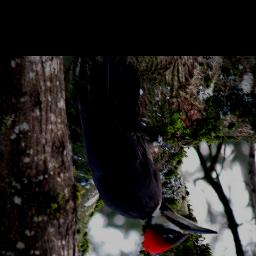Woodpecker: (71, 61, 221, 256)
